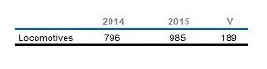table: (0, 0, 267, 69)
